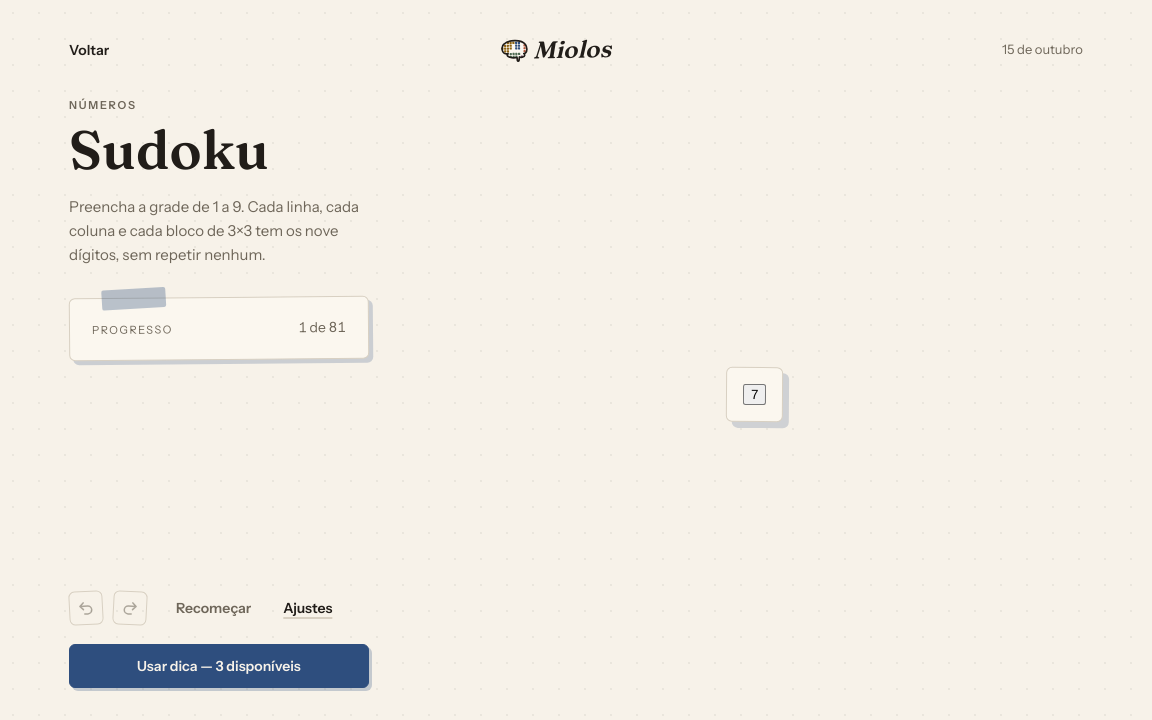
Test: the chrome shows the reason on the hinted cell until the next press (T-WEB-S691) › opens a fresh card for the next hint
Click the button "Usar dica — 3 disponíveis" at (219, 666), box [69,644,369,688]
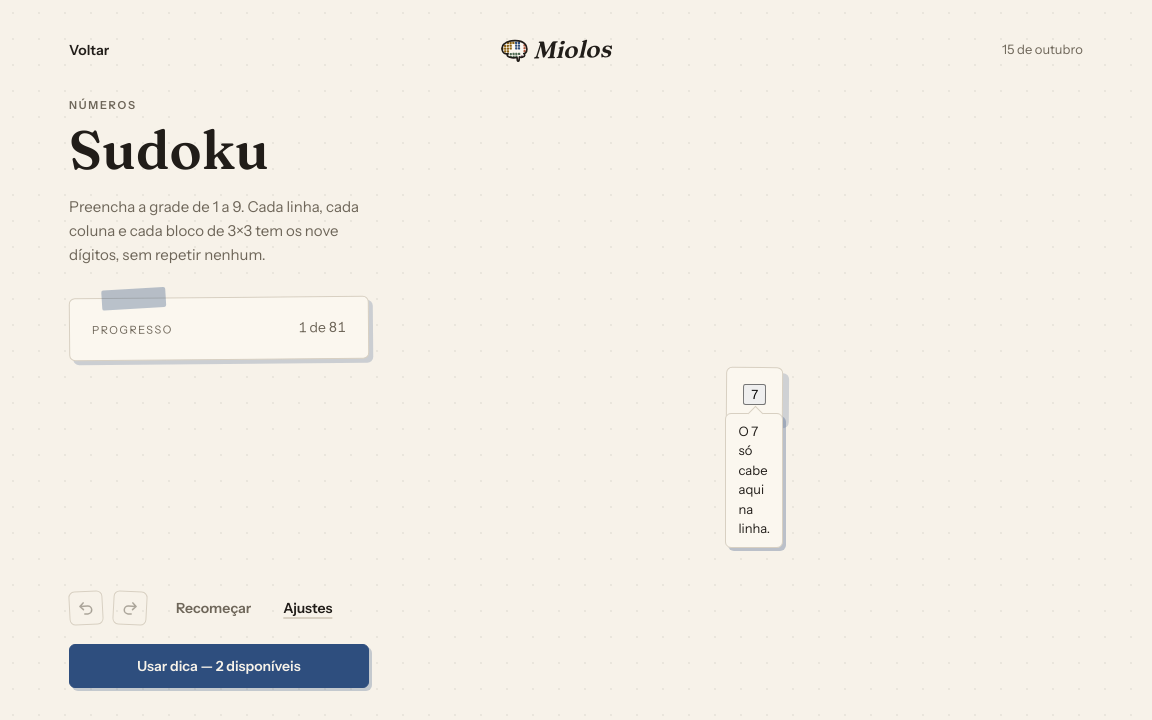
Press the mouse on the element that starts with "Voltar" at (576, 360), box [0,0,1151,719]
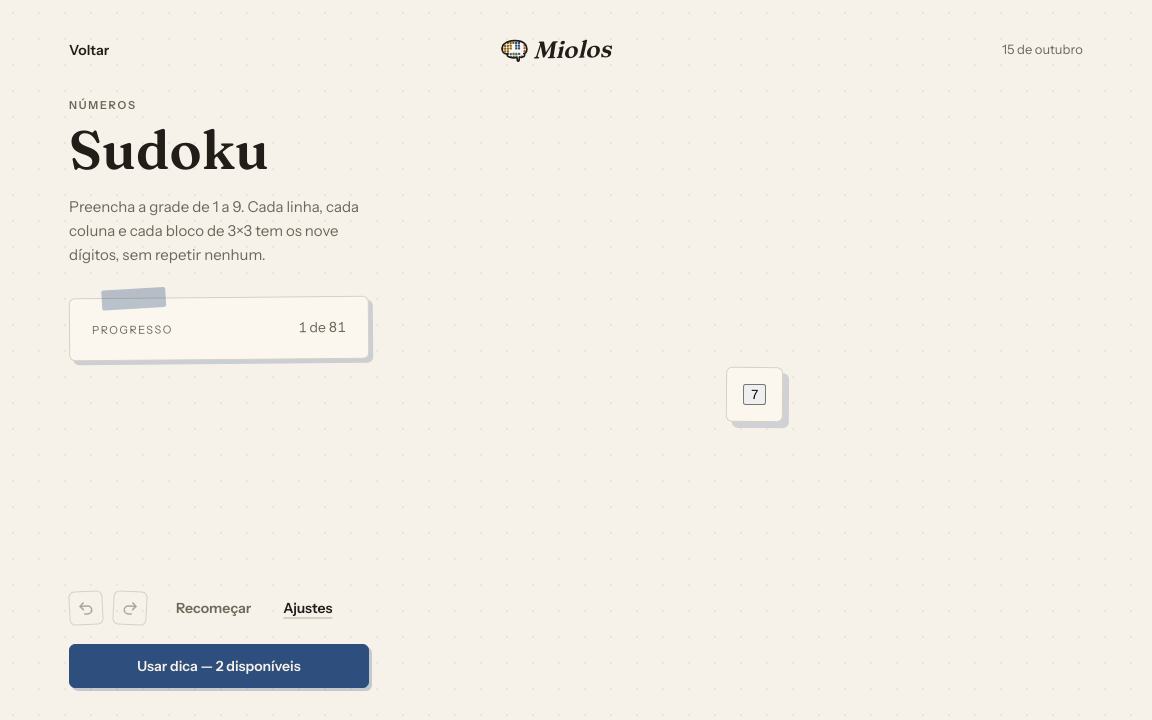
Click the button "Usar dica — 2 disponíveis" at (219, 666), box [69,644,369,688]
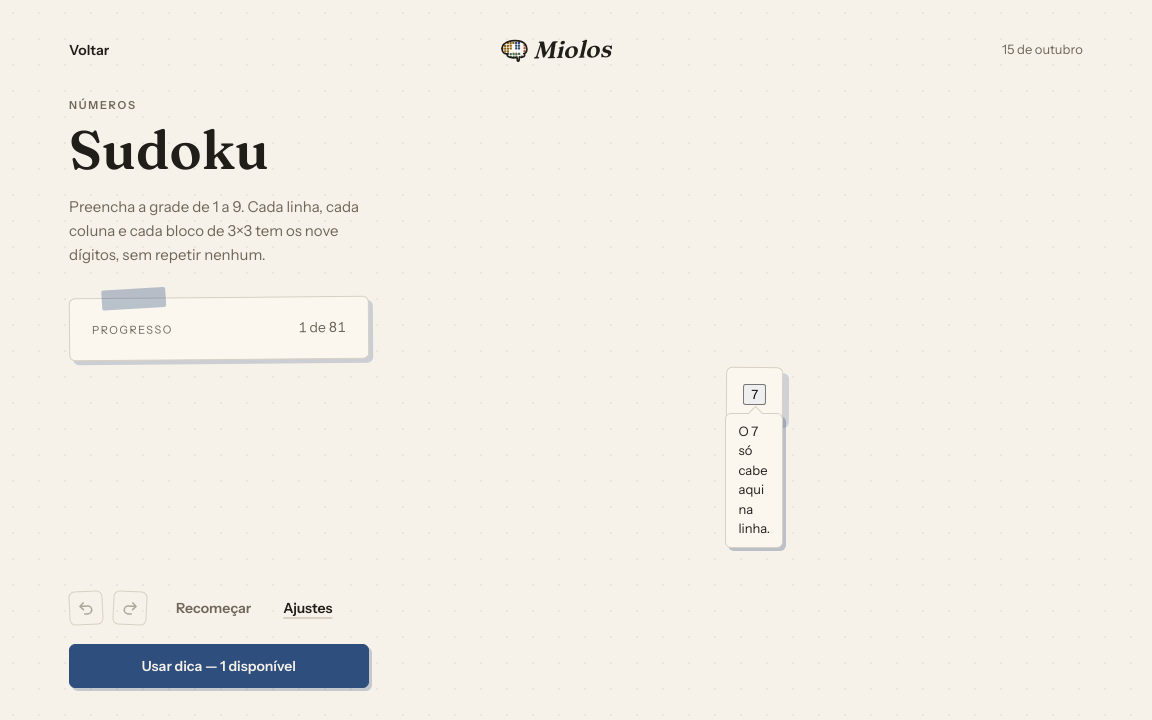
Expected: the text "O 7 só cabe aqui na linha." is shown, [726,413,783,548]
